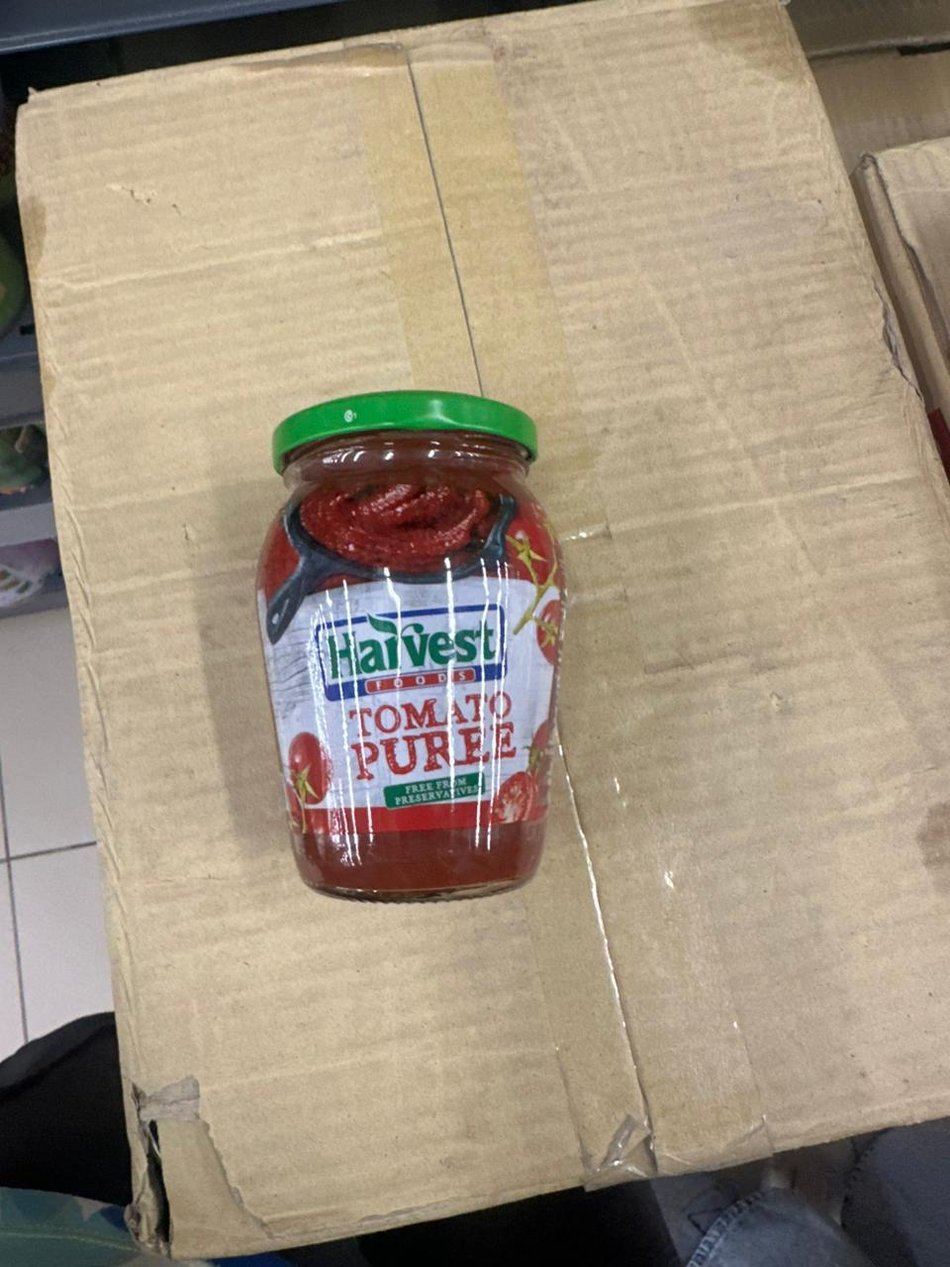tomato_puree: (265, 322, 595, 922), (273, 390, 536, 472)
